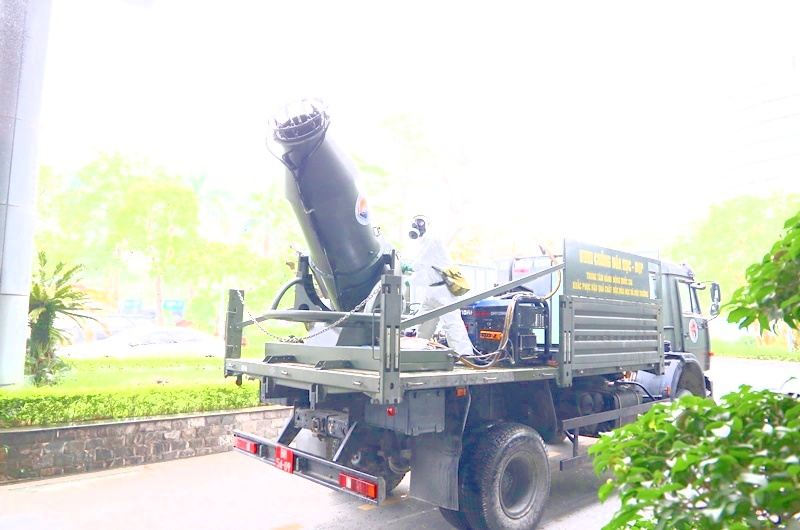plate: (273, 444, 298, 471)
